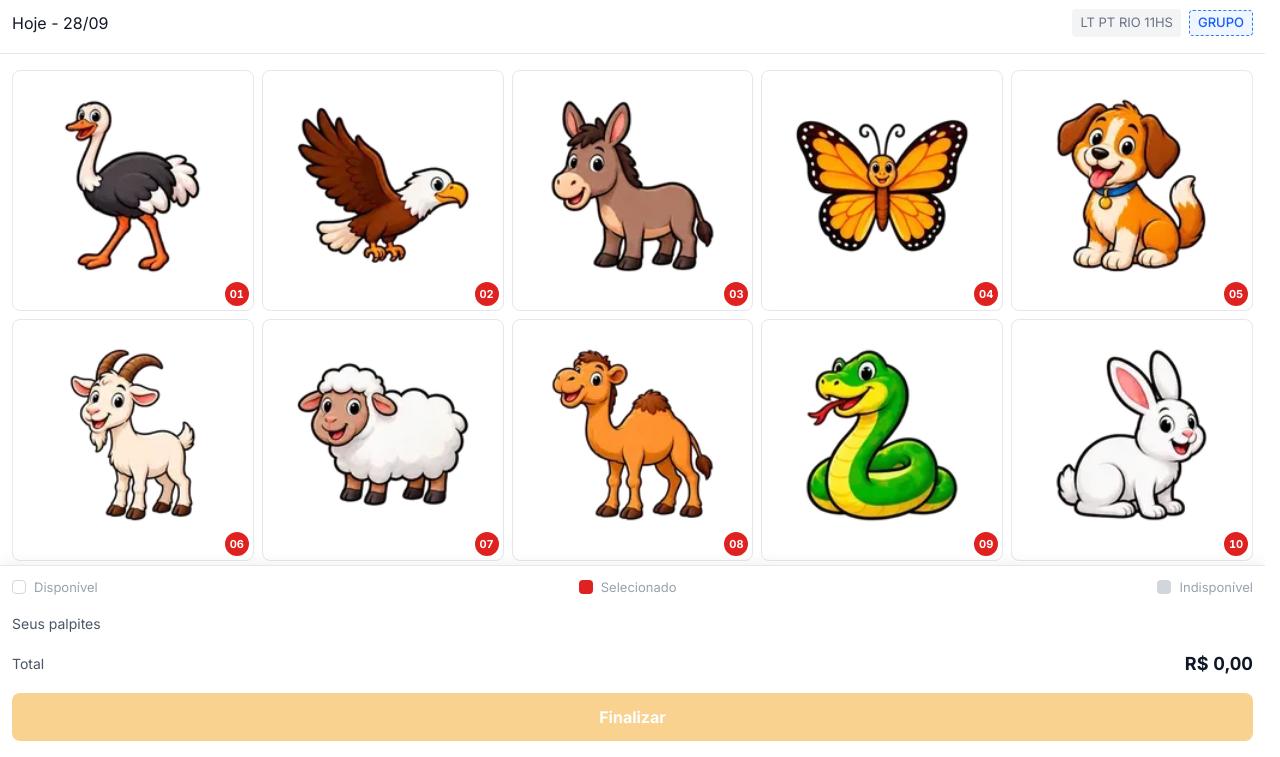
Test: PalpitesScreen › selecionar soma o total; "Seus palpites" mostra os números e remove ao tocar
The image size is (1280, 757).
Check: the button "Finalizar" is disabled, box [12,693,1253,741]
Click the button named "05 Cachorro" at (1132, 190), box [1011,70,1253,311]
(page scrolled)
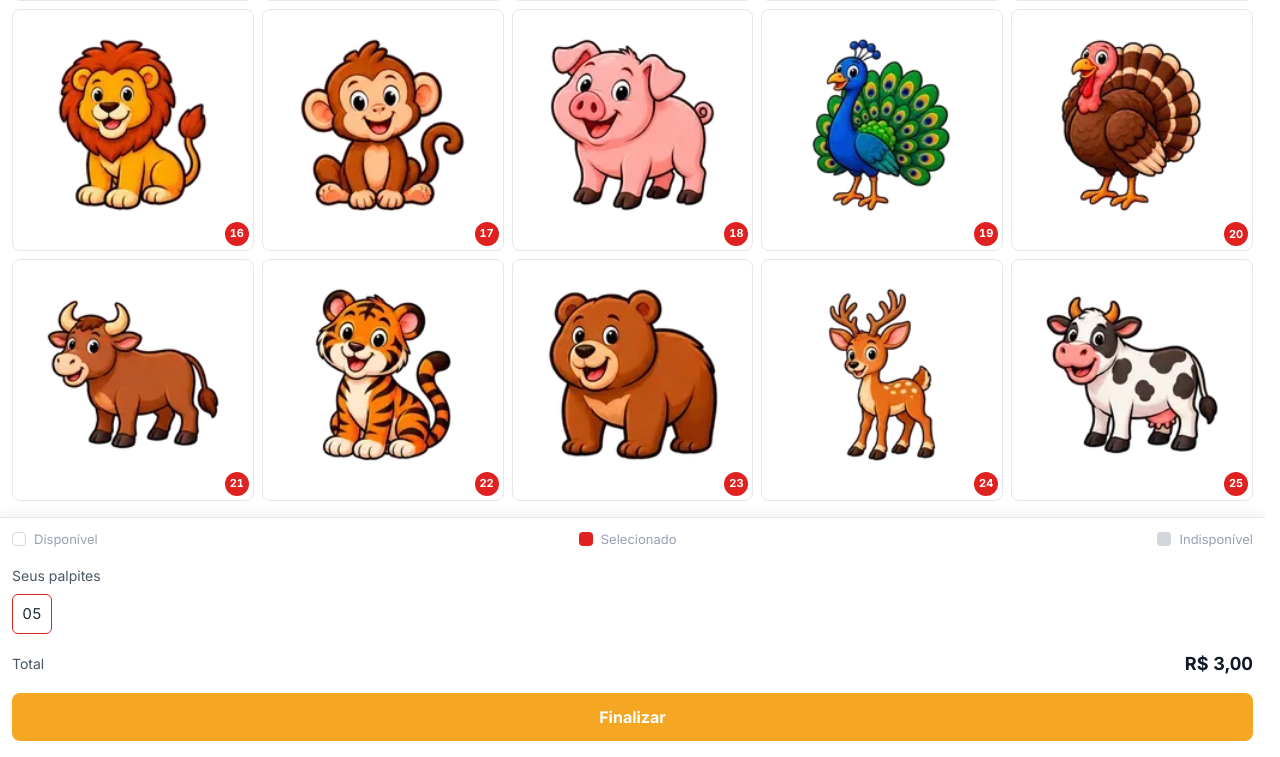
Click the button named "25 Vaca" at (1132, 380), box [1011,259,1253,501]
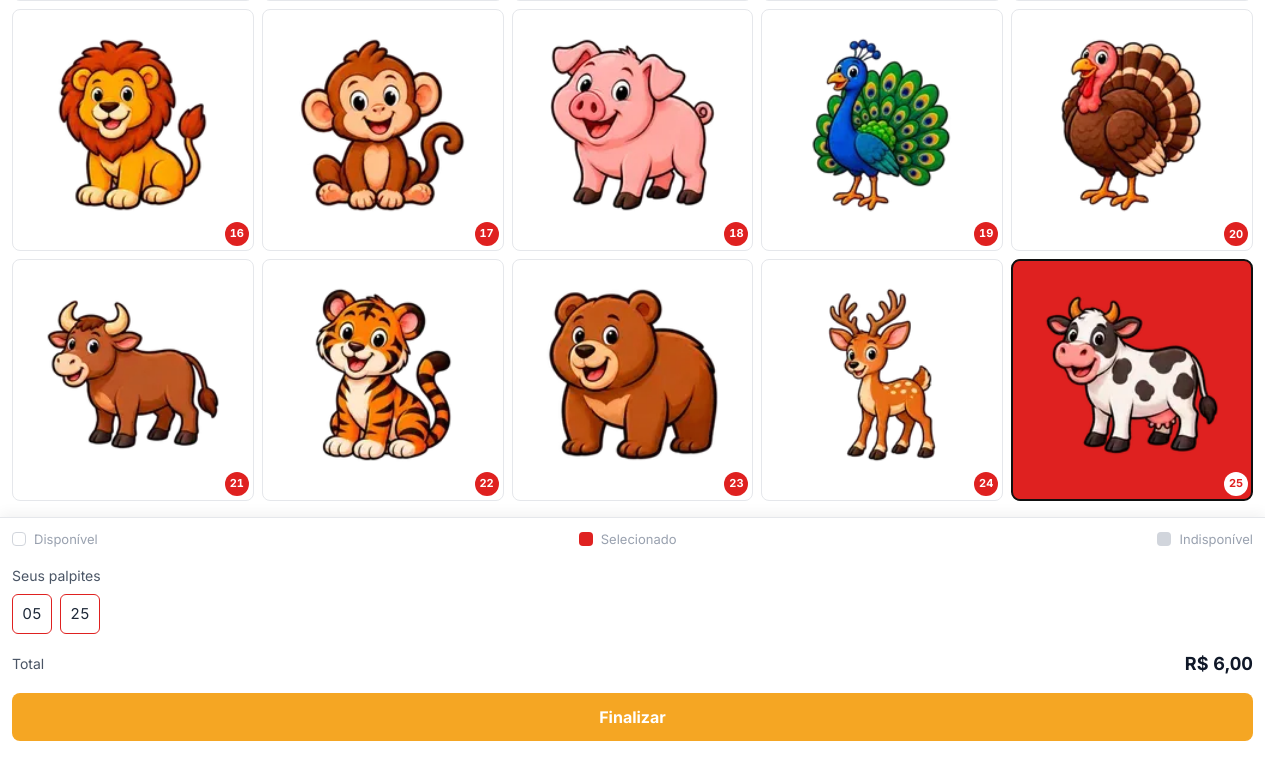
Check: the buttons read "05", "25", in this order
Check: the text "R$ 6,00" is shown, box [1185,650,1253,677]
Click the button named "Remover 05 Cachorro" at (32, 614), box [12,594,52,634]
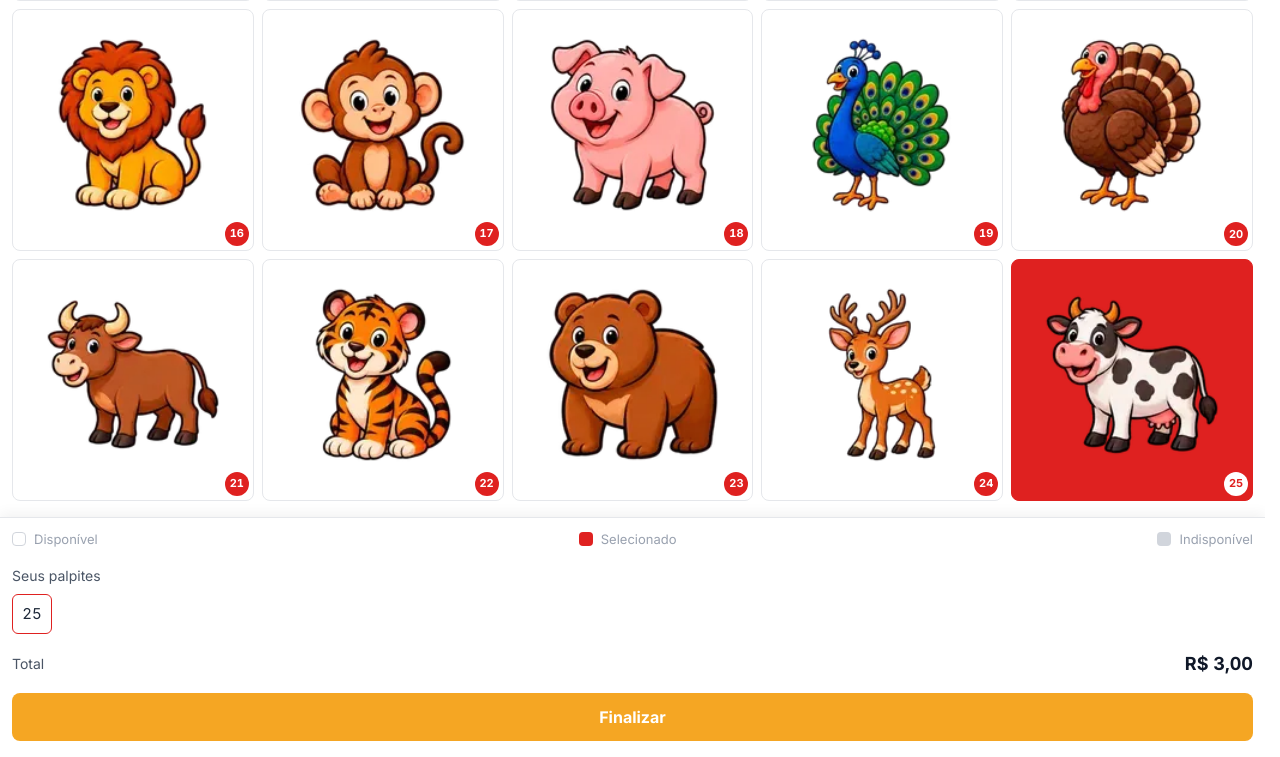
Check: the text "R$ 3,00" is shown, box [1185,650,1253,677]
